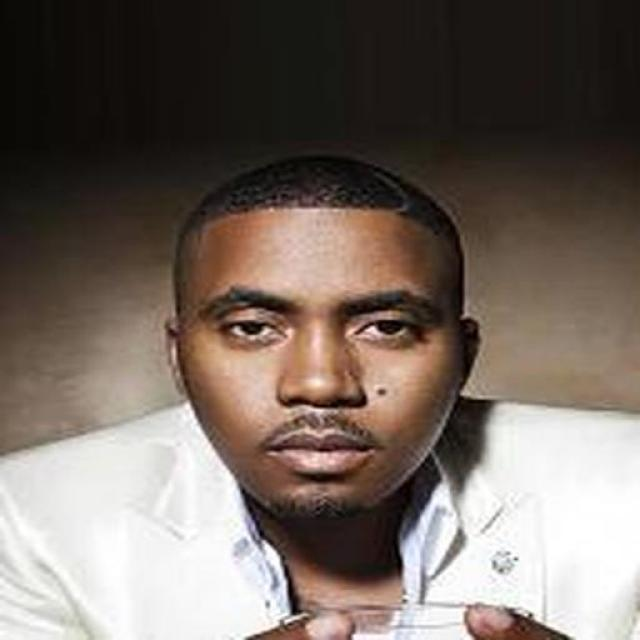bareface: (169, 181, 485, 535)
